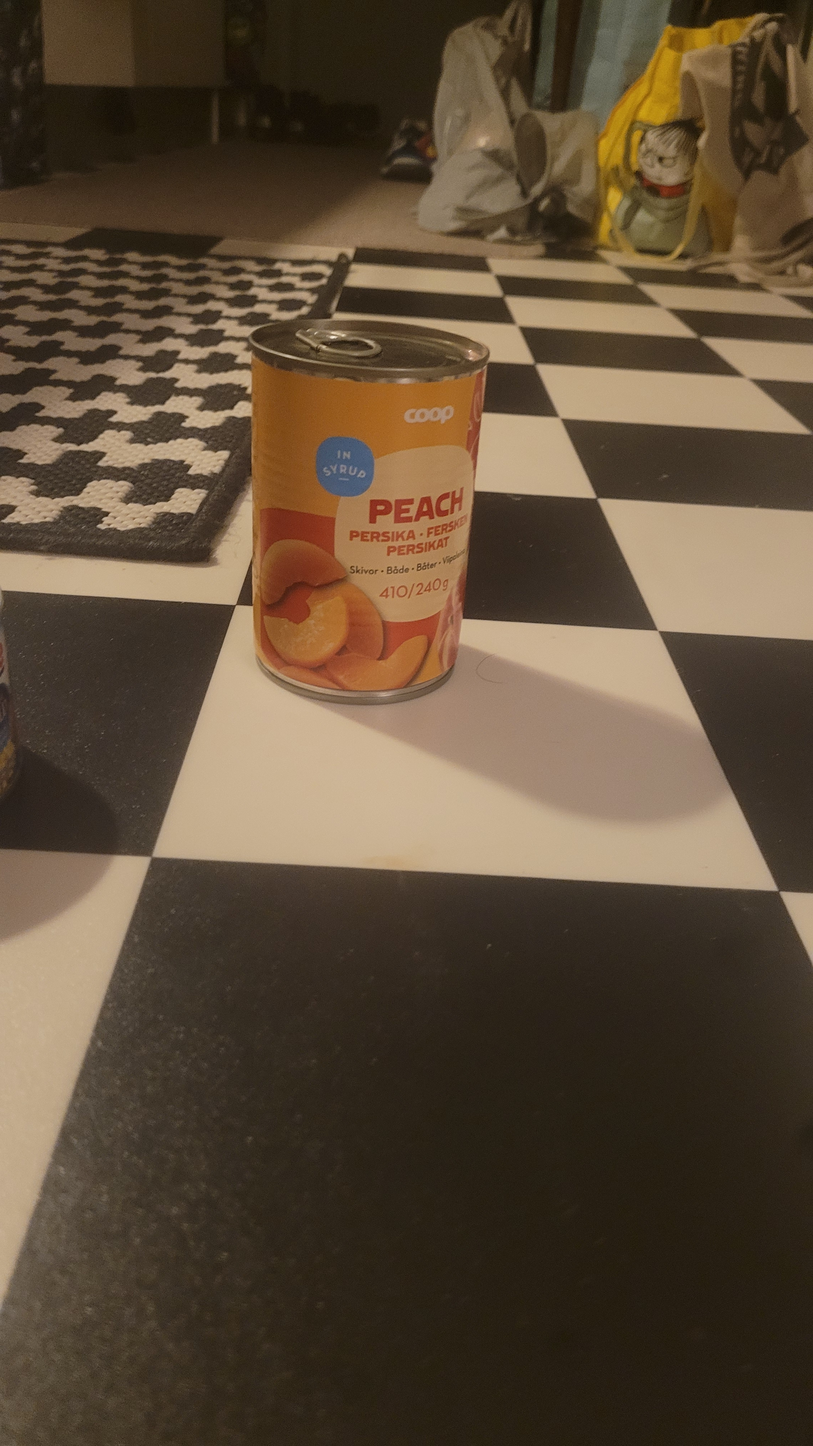Konservburk: (250, 319, 489, 704)
